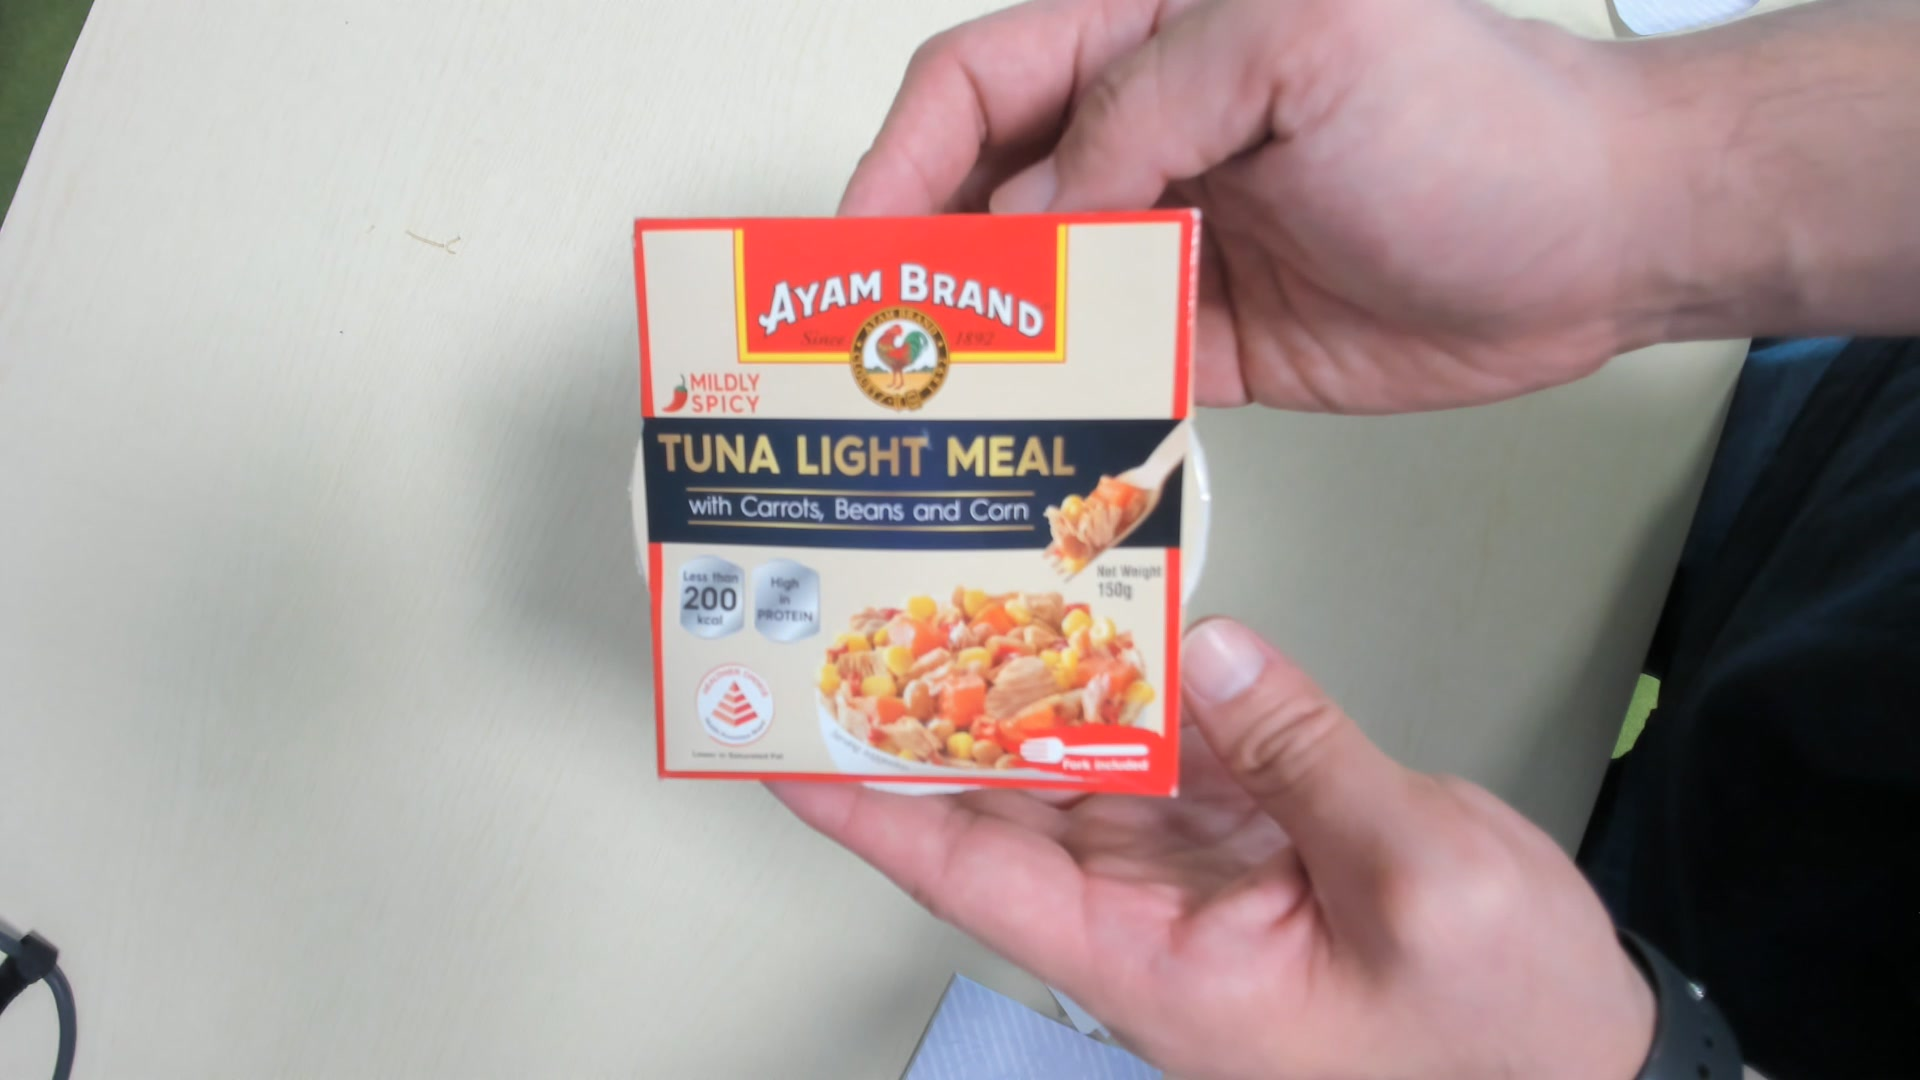InstantMeals_100-199g_NonHalal_Healthy: (620, 200, 1215, 819)
